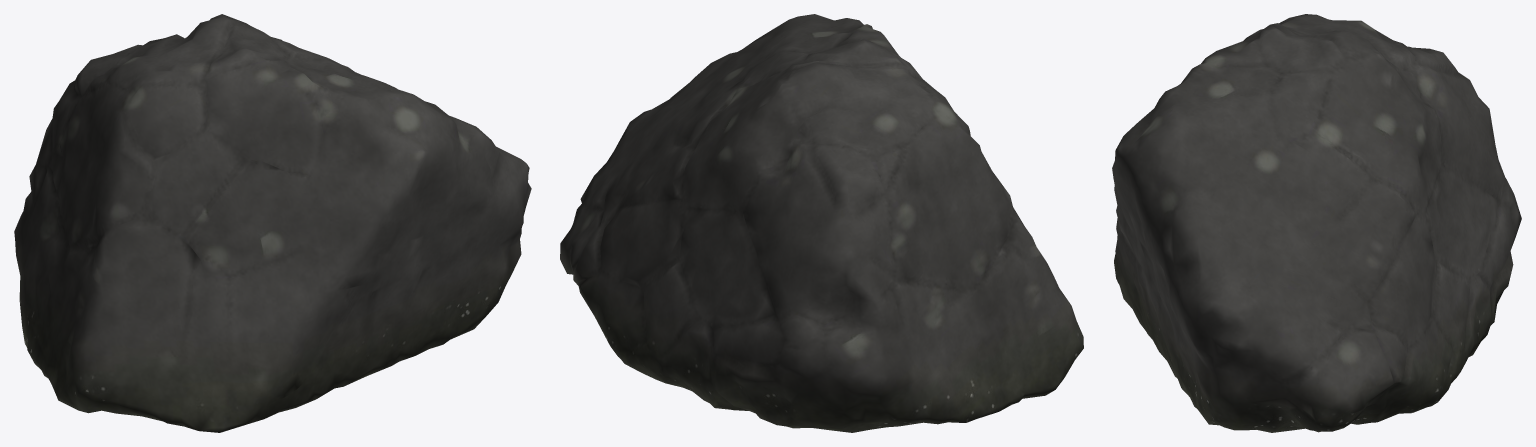
Rendered from rock_boulder.glb.
3 views of the same model, side by side, from view 1: azimuth 30°, elevation 25°; view 2: azimuth 150°, elevation 25°; view 3: azimuth 270°, elevation 25° (orthographic).
Visible parts, largest first — view 1: rock_boulder; view 2: rock_boulder; view 3: rock_boulder.
Boxes of the visible parts, <box> form: rock_boulder: <box>14,14,531,432</box>; rock_boulder: <box>560,14,1083,432</box>; rock_boulder: <box>1112,14,1521,432</box>.
Size of the model in its own units: 1.37 by 0.87 by 1.06.
1 material, 1 textured.
